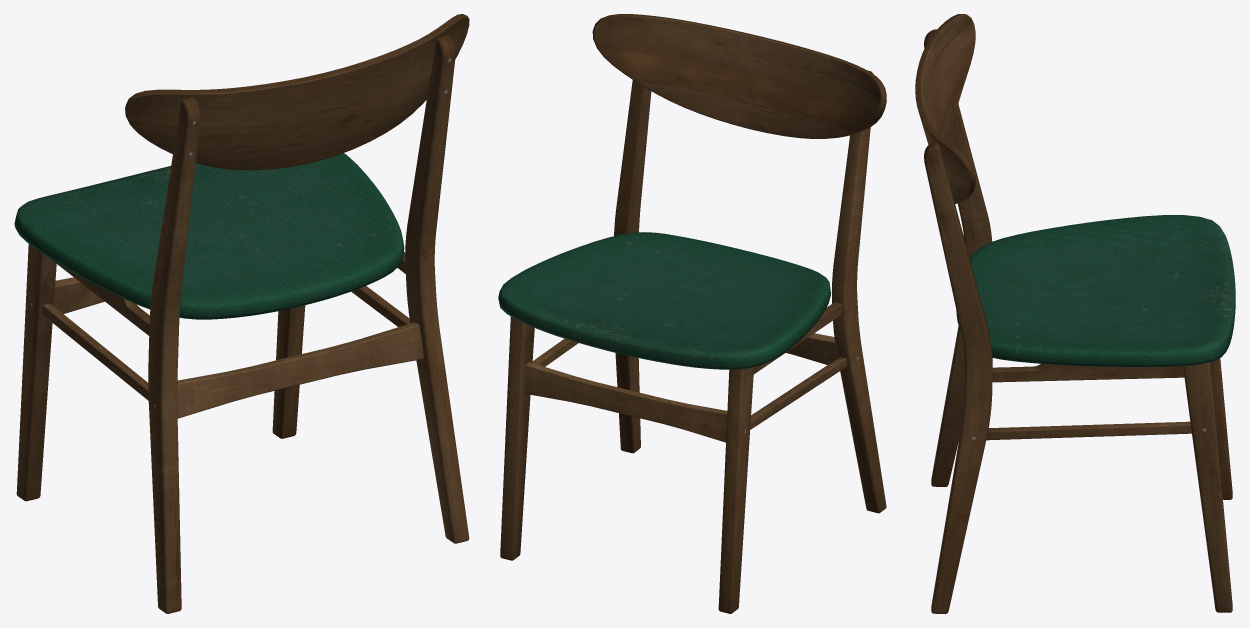
Rendered from chair.glb.
3 renders of one model, left to right at view 1: azimuth 30°, elevation 25°; view 2: azimuth 150°, elevation 25°; view 3: azimuth 270°, elevation 25°, orthographic. The views are drawn at different scales.
Visible parts, largest first — view 1: Chair; view 2: Chair; view 3: Chair.
Part boxes in pixels (x1,y1,x2,y2): Chair: (14,14,469,613); Chair: (498,14,886,613); Chair: (915,14,1235,613).
Bounding box in the file's own units: 0.5229 × 0.7577 × 0.4671.
Materials: 1 (1 with a texture image).
